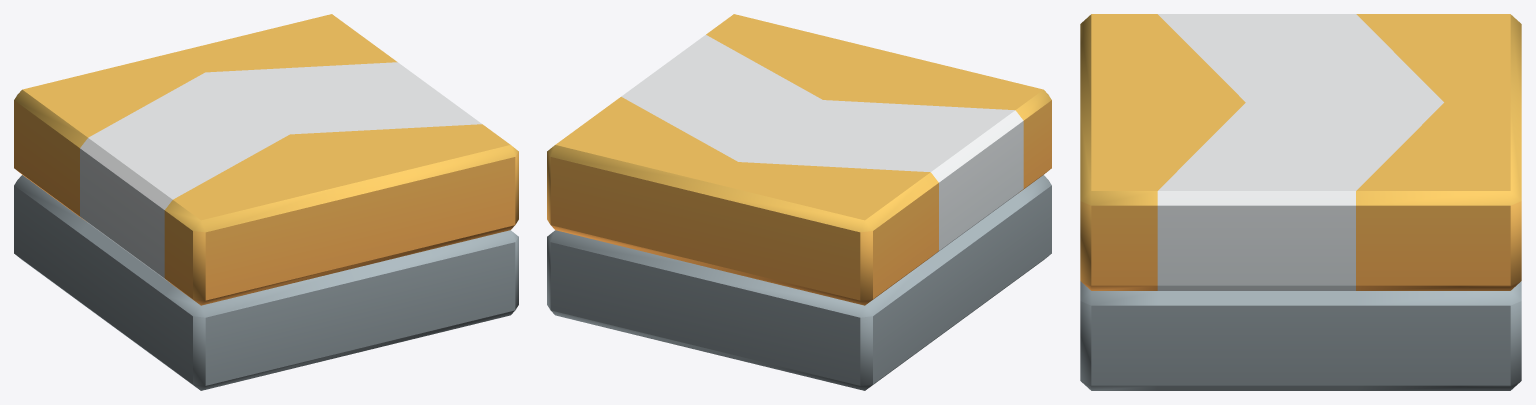
Rendered from platform_arrow_2x2x1_yellow.glb.
3 renders of one model, left to right at view 1: azimuth 30°, elevation 25°; view 2: azimuth 150°, elevation 25°; view 3: azimuth 270°, elevation 25°, orthographic. The views are drawn at different scales.
Parts seen in each view (by area): view 1: platform_arrow_2x2x1_yellow; view 2: platform_arrow_2x2x1_yellow; view 3: platform_arrow_2x2x1_yellow.
Part boxes in pixels (x1=…): platform_arrow_2x2x1_yellow: x1=14, y1=14, x2=518, y2=390; platform_arrow_2x2x1_yellow: x1=547, y1=14, x2=1051, y2=390; platform_arrow_2x2x1_yellow: x1=1080, y1=14, x2=1521, y2=390.
Size of the model in its own units: 2 by 1 by 2.
1 material, 1 textured.
